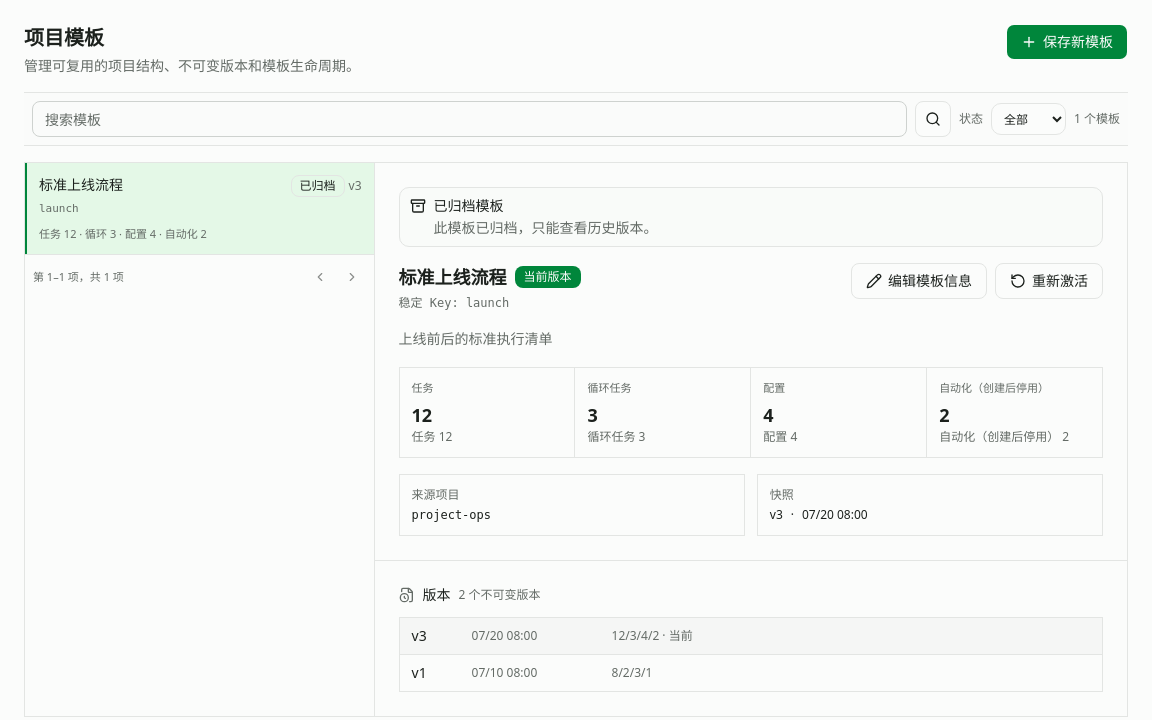
ProjectTemplateLibraryPage › allows managers to modify archived template metadata and refetches
Click the button "编辑模板信息" at (919, 281), box [851,263,987,299]
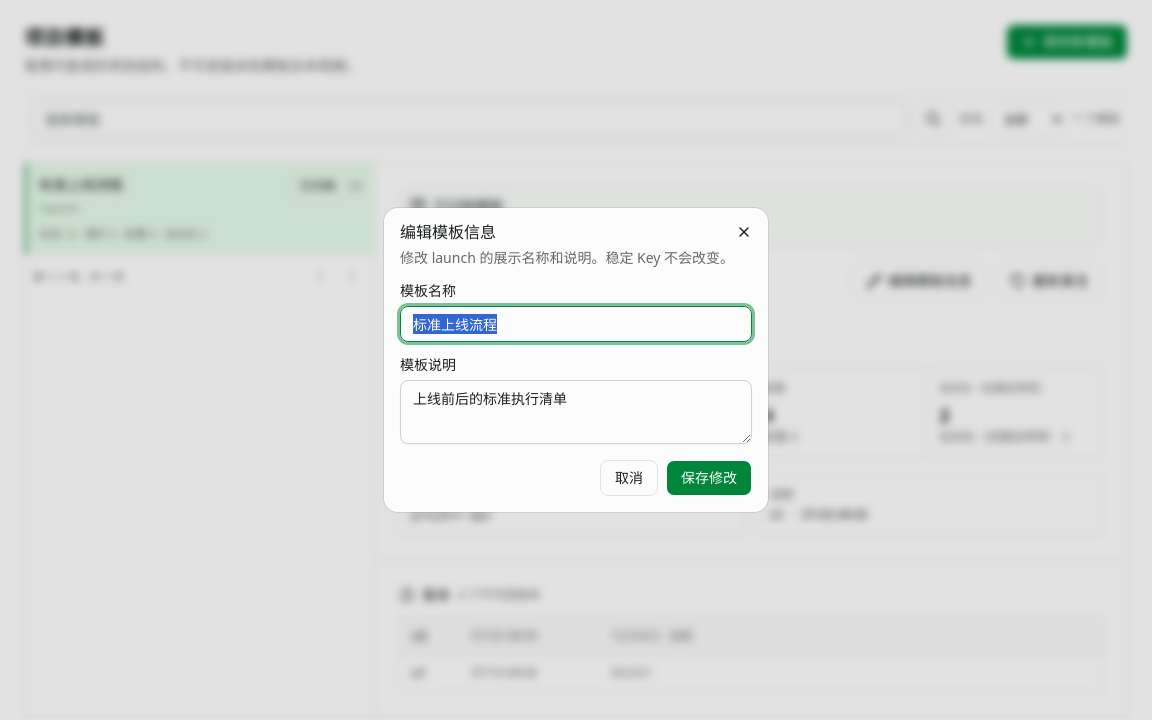
Replace the text in the field labelled "模板名称" with "已归档新版上线流程" at (576, 324), box [400,306,752,342]
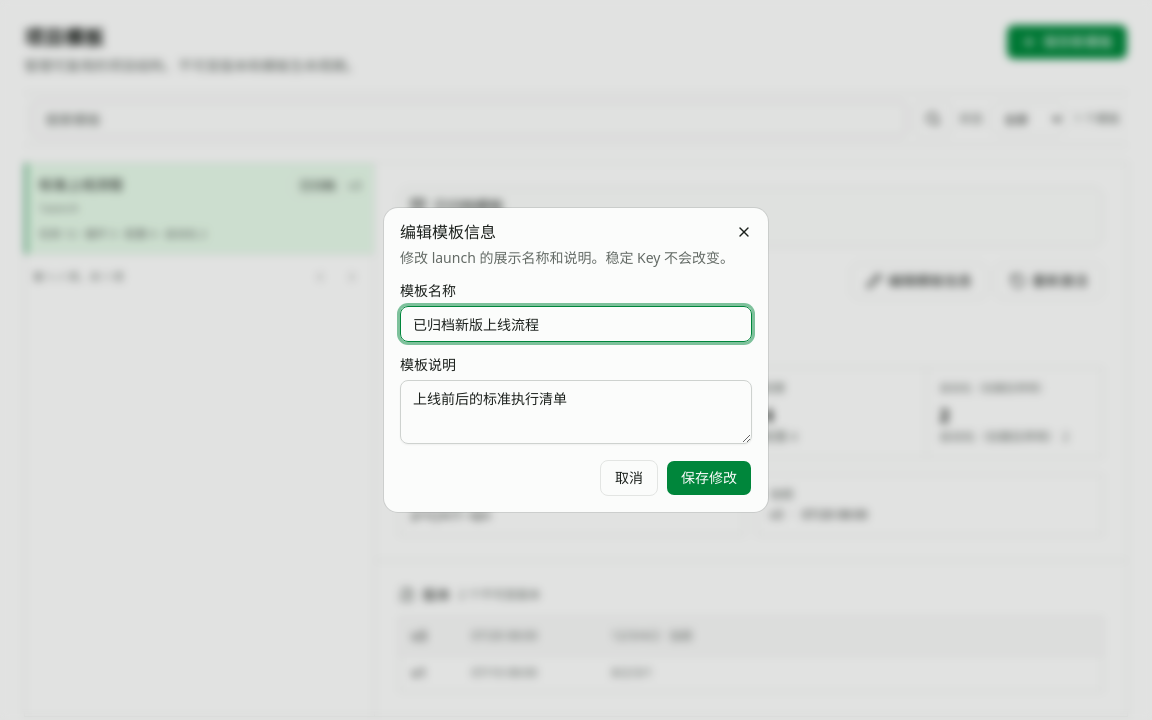
Replace the text in the text box labelled "模板说明" with "已归档后的模板说明" at (576, 412), box [400,380,752,444]
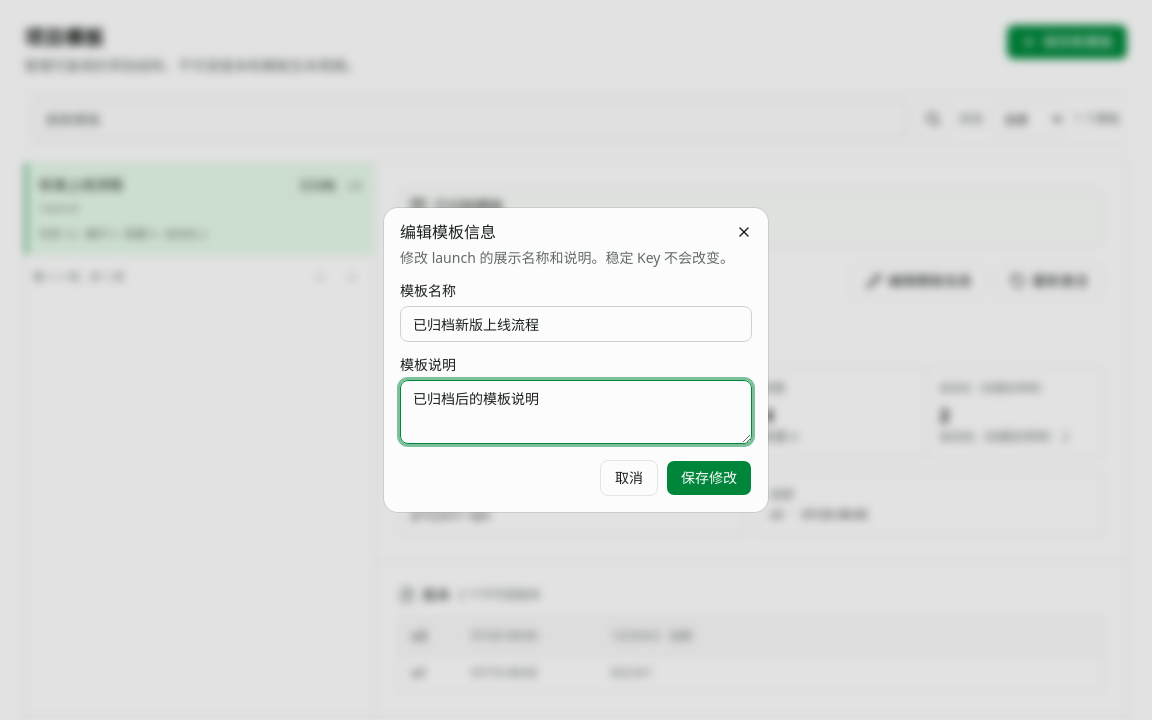
Click the button "保存修改" at (709, 478), box [666,460,752,496]
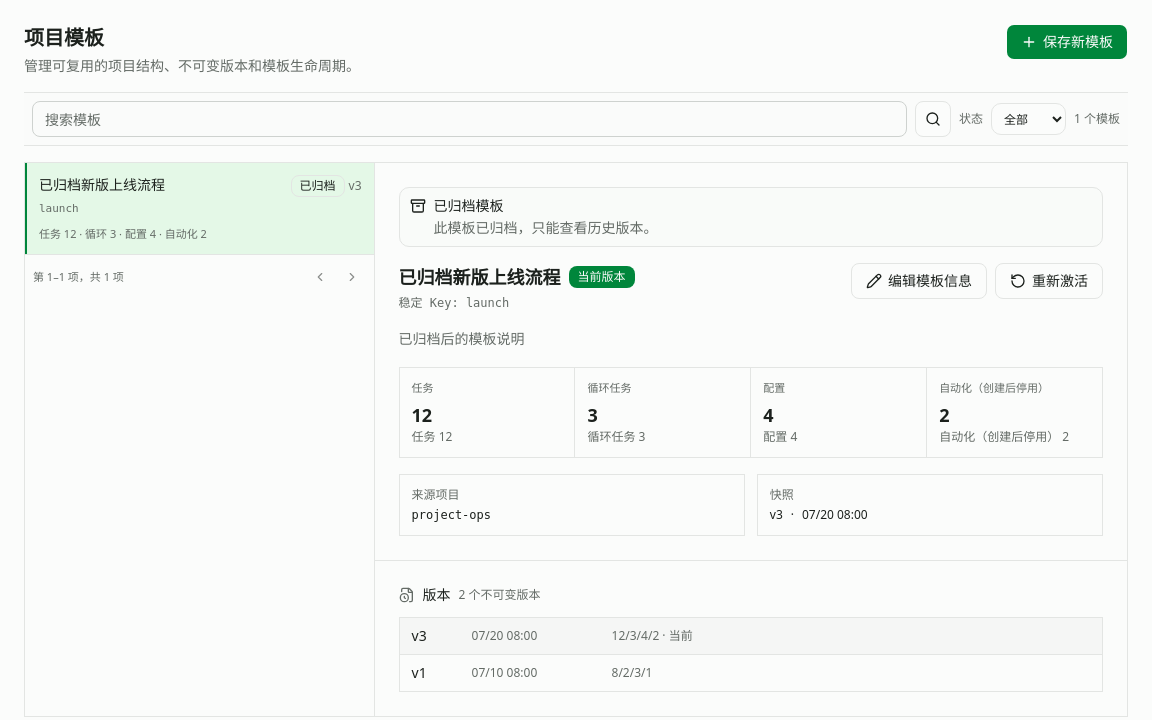
Expected: the text "已归档后的模板说明" is shown, [398,329,524,348]
